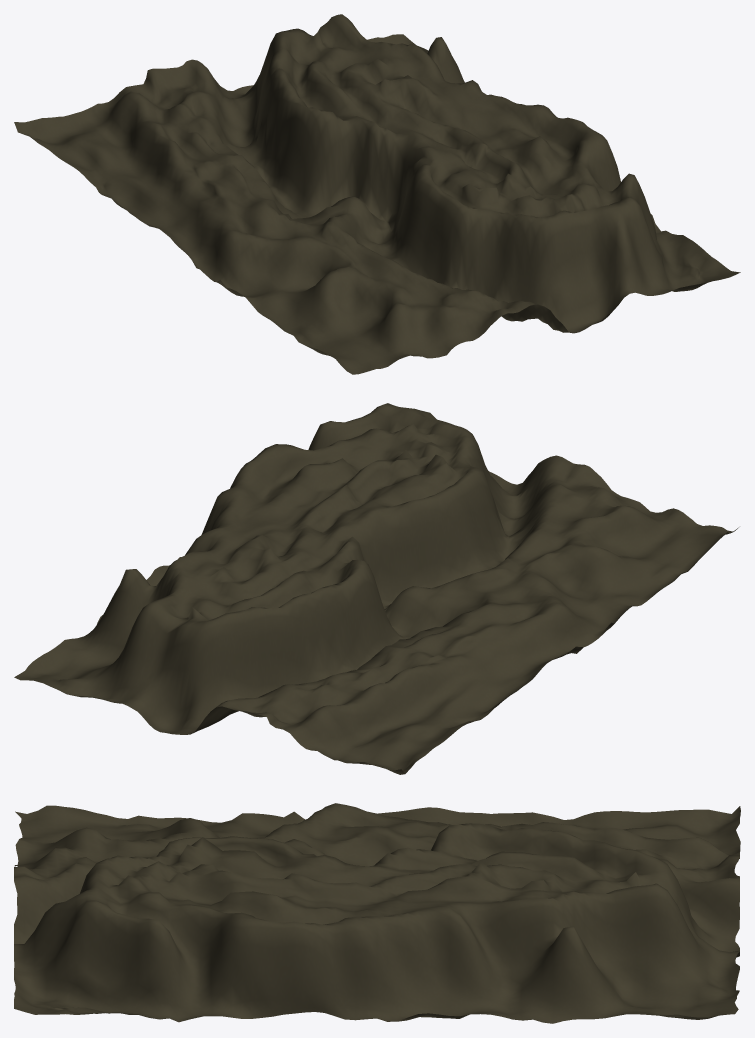
File: Lake_Cavern_Roof.obj
The picture shows the model from 3 angles, top to bottom: view 1: azimuth 30°, elevation 25°; view 2: azimuth 150°, elevation 25°; view 3: azimuth 270°, elevation 25°; orthographic projection. The views are drawn at different scales.
Parts seen in each view (by area): view 1: Roof; view 2: Roof; view 3: Roof.
Boxes of the visible parts, bbox=[...] form: Roof: bbox=[14, 14, 740, 374]; Roof: bbox=[14, 403, 738, 774]; Roof: bbox=[14, 803, 740, 1023].
Size of the model in its own units: 5320 by 1264 by 7933.
